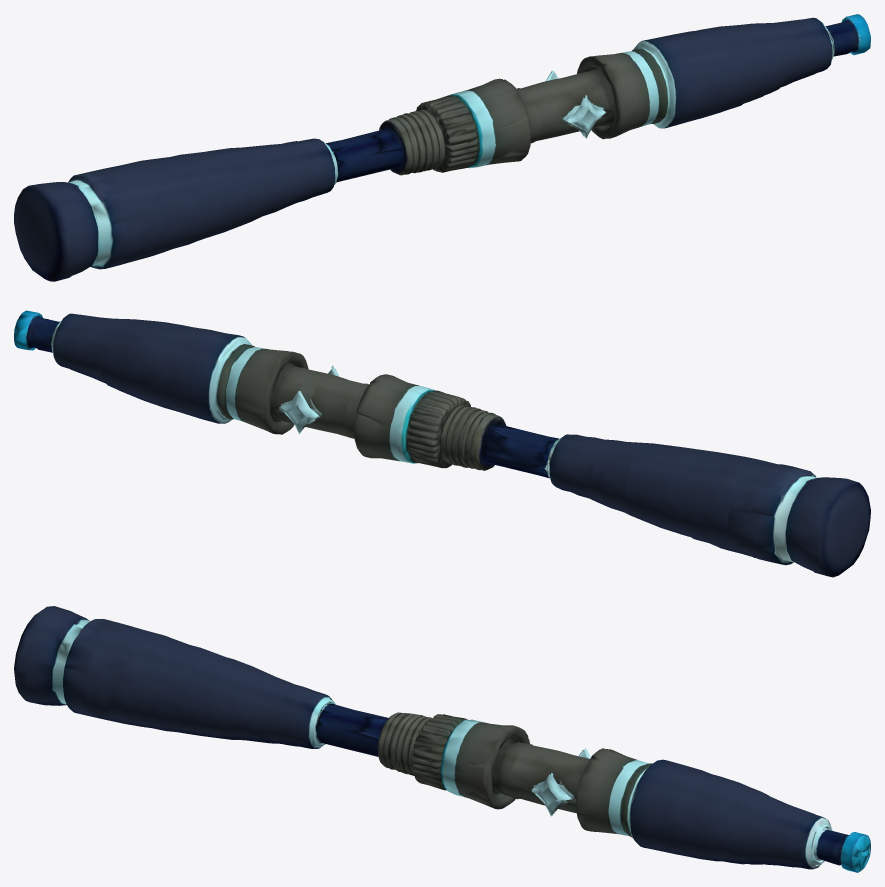
File: gear-rod7.glb
The picture shows the model from 3 angles, top to bottom: view 1: azimuth 30°, elevation 25°; view 2: azimuth 150°, elevation 25°; view 3: azimuth 330°, elevation 25°; orthographic projection.
Visible parts, largest first — view 1: tripo_node_27da0932-6d6a-4d56-9ab6-9bcb6b905383; view 2: tripo_node_27da0932-6d6a-4d56-9ab6-9bcb6b905383; view 3: tripo_node_27da0932-6d6a-4d56-9ab6-9bcb6b905383.
Boxes of the visible parts, <box> form: tripo_node_27da0932-6d6a-4d56-9ab6-9bcb6b905383: <box>14,14,870,281</box>; tripo_node_27da0932-6d6a-4d56-9ab6-9bcb6b905383: <box>14,310,870,577</box>; tripo_node_27da0932-6d6a-4d56-9ab6-9bcb6b905383: <box>14,606,870,872</box>.
Size of the model in its own units: 1 by 0.102 by 0.108.
1 material, 1 textured.
